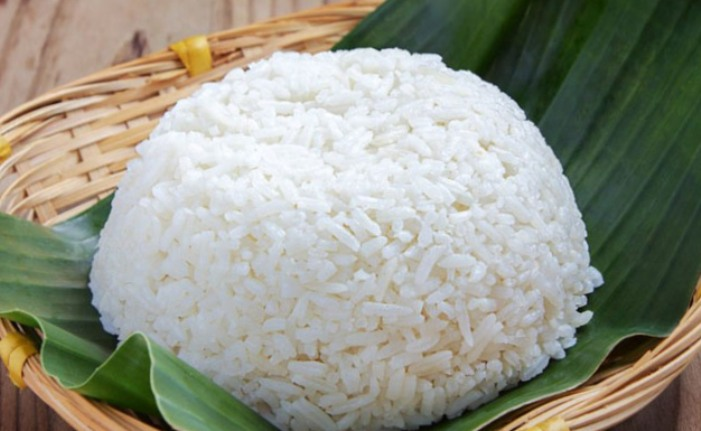Nasi Putih: (51, 31, 620, 431)
